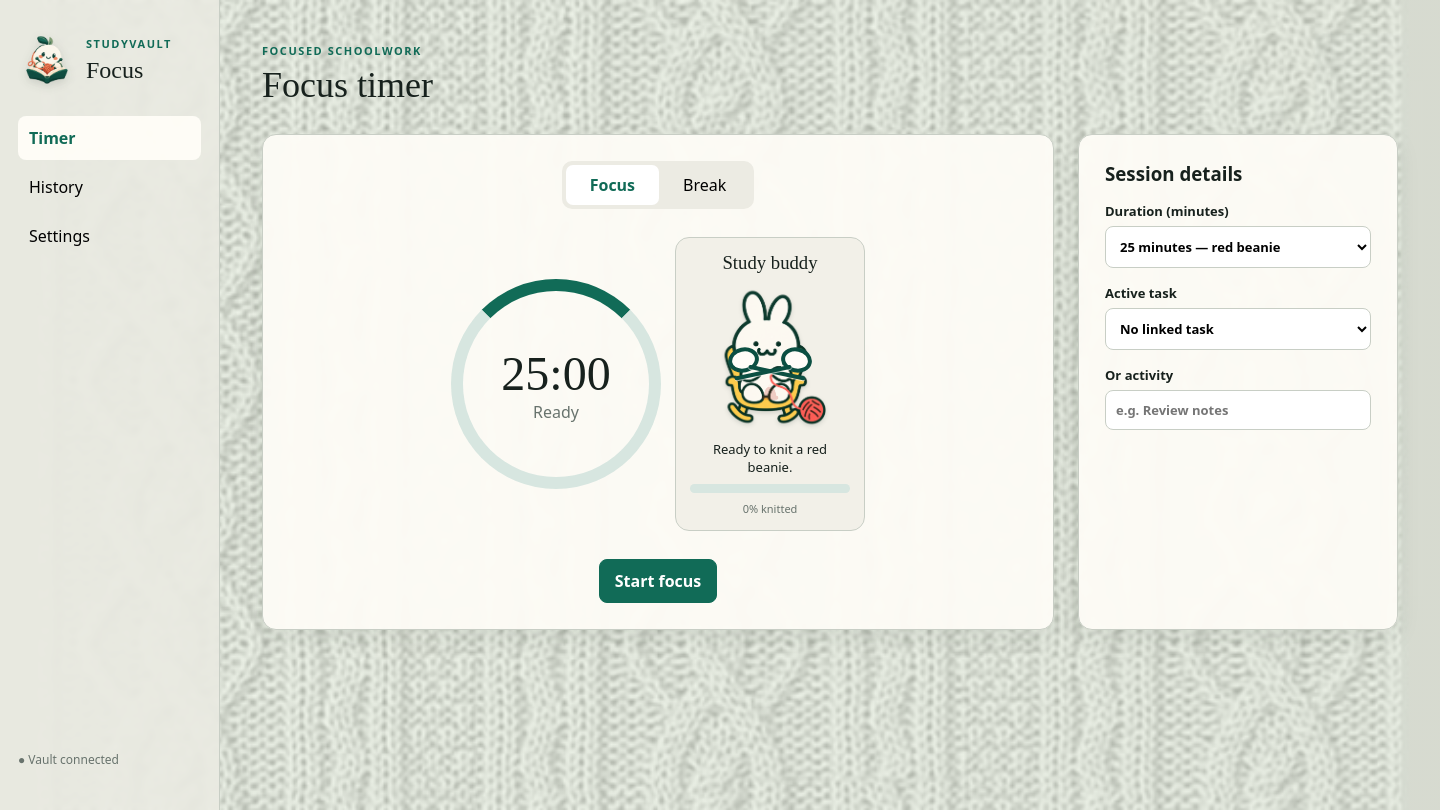
Test: StudyVault Focus interface › shows default focus and break durations
The image size is (1440, 810).
Expected: the text "25:00" is shown, 501,346 -> 611,400
Expected: the picture named "StudyVault Focus icon" is shown, 18,30 -> 76,88
Click the button "Break" at (705, 185), box 659,165 -> 750,205
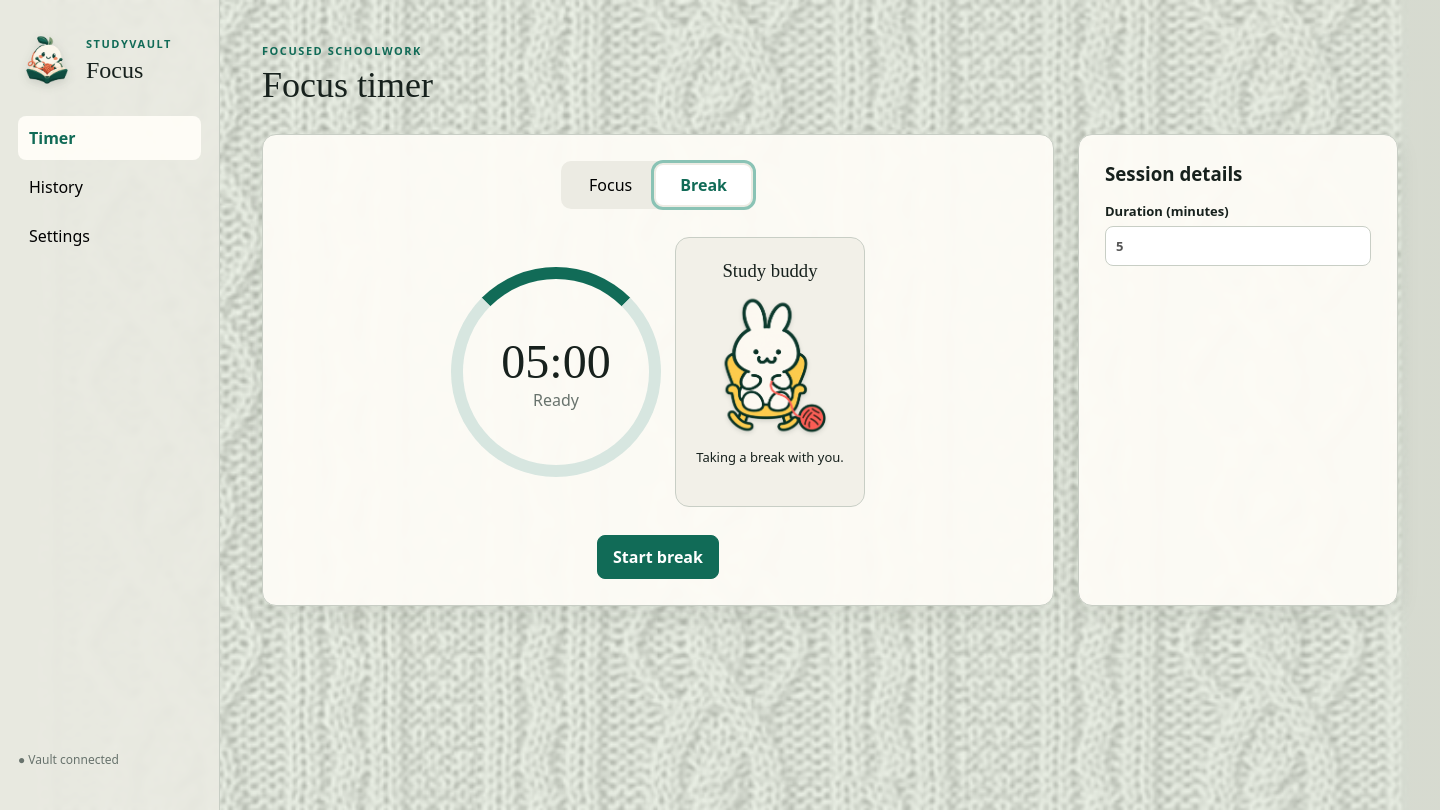
Expected: the text "05:00" is shown, 501,334 -> 611,388
